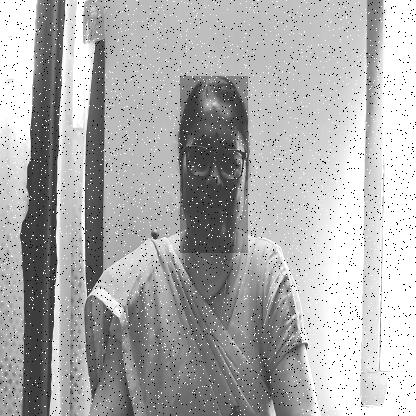Normal: (180, 76, 248, 253)
